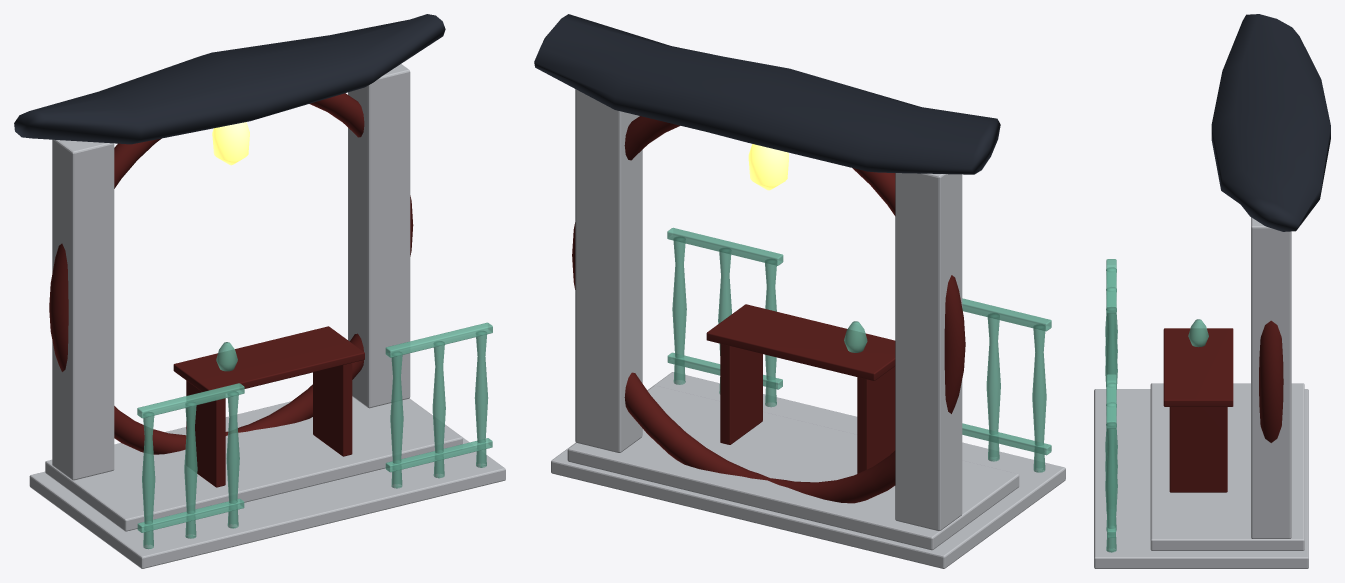
Rendered from webtoon-murim-moon-gate-pavilion-datum-v19.glb.
3 views of the same model, side by side, from view 1: azimuth 30°, elevation 25°; view 2: azimuth 150°, elevation 25°; view 3: azimuth 270°, elevation 25° (orthographic). The views are drawn at different scales.
Parts seen in each view (by area): view 1: MurimGranitePlinthAndFlanks.001, MurimUpturnedTiledEave.001, MurimMoonGateFrameAndScrollTable.001, MurimCeladonJadeBalustrade.001, MurimAmberSilkLantern.001; view 2: MurimGranitePlinthAndFlanks.001, MurimUpturnedTiledEave.001, MurimMoonGateFrameAndScrollTable.001, MurimCeladonJadeBalustrade.001, MurimAmberSilkLantern.001; view 3: MurimGranitePlinthAndFlanks.001, MurimUpturnedTiledEave.001, MurimMoonGateFrameAndScrollTable.001, MurimCeladonJadeBalustrade.001.
Boxes of the visible parts, box(x1,y1,x2,y2) form: MurimGranitePlinthAndFlanks.001: box(29, 64, 505, 568); MurimUpturnedTiledEave.001: box(14, 14, 445, 144); MurimMoonGateFrameAndScrollTable.001: box(49, 93, 413, 487); MurimCeladonJadeBalustrade.001: box(137, 322, 492, 549); MurimAmberSilkLantern.001: box(212, 122, 249, 165); MurimGranitePlinthAndFlanks.001: box(551, 89, 1065, 568); MurimUpturnedTiledEave.001: box(534, 14, 1000, 174); MurimMoonGateFrameAndScrollTable.001: box(572, 116, 965, 503); MurimCeladonJadeBalustrade.001: box(667, 227, 1051, 472); MurimAmberSilkLantern.001: box(748, 144, 788, 190); MurimGranitePlinthAndFlanks.001: box(1094, 217, 1308, 568); MurimUpturnedTiledEave.001: box(1211, 14, 1330, 231); MurimMoonGateFrameAndScrollTable.001: box(1163, 320, 1283, 492); MurimCeladonJadeBalustrade.001: box(1105, 259, 1208, 552).
Size of the model in its own units: 3.12 by 2.88 by 1.63.
